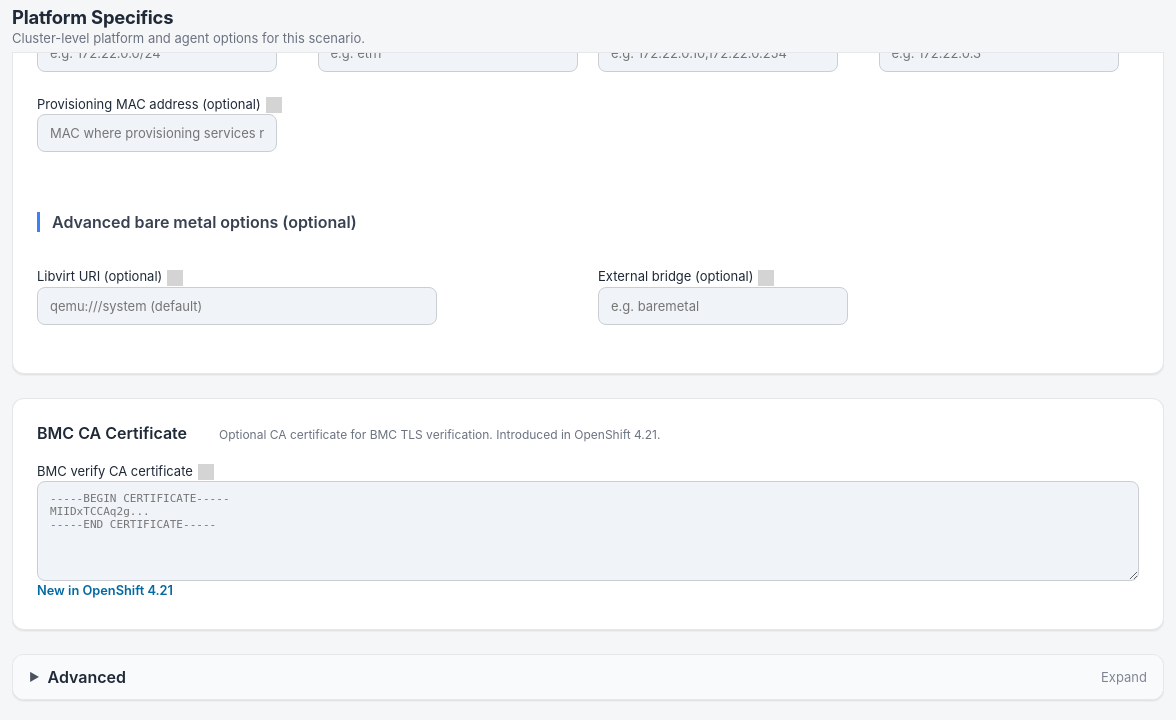
it: bmcVerifyCA — PEM advisory › shows advisory when no PEM block present
The image size is (1176, 720).
(page scrolled)
Step 1. Replace the text in the text box named "BMC verify CA certificate" with "not-a-pem-cert" → coordinates (588, 531), box [37,481,1139,581]
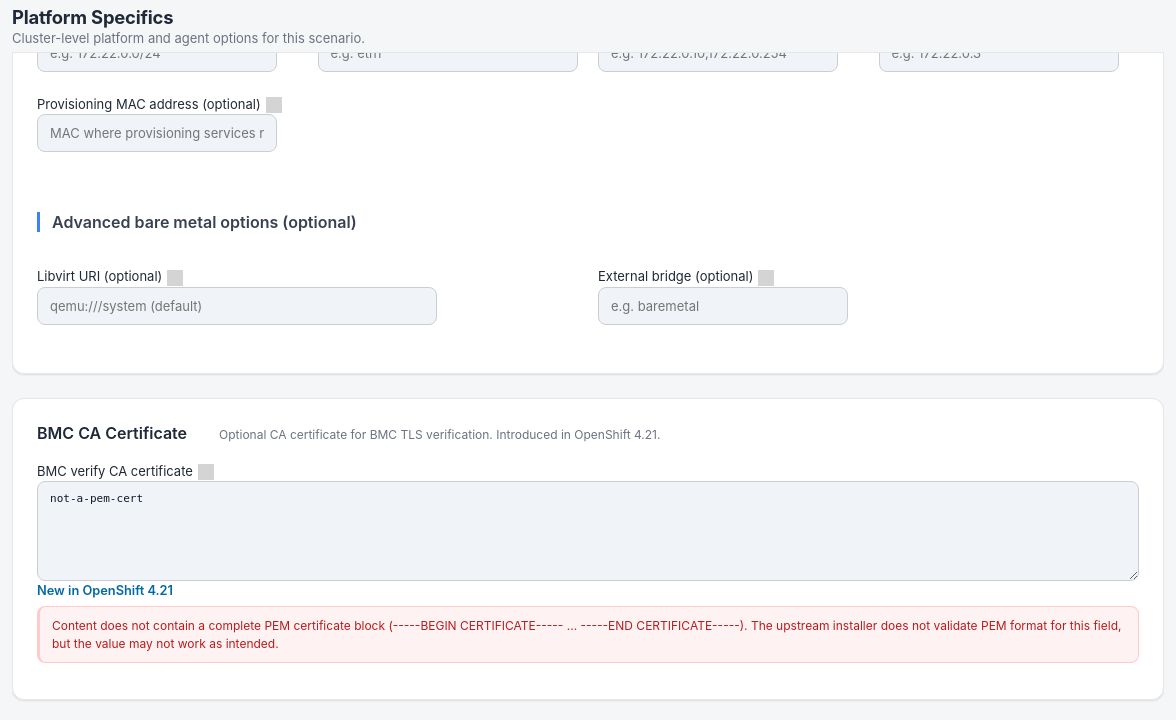
Expected: the message is shown, [37,606,1139,663]
